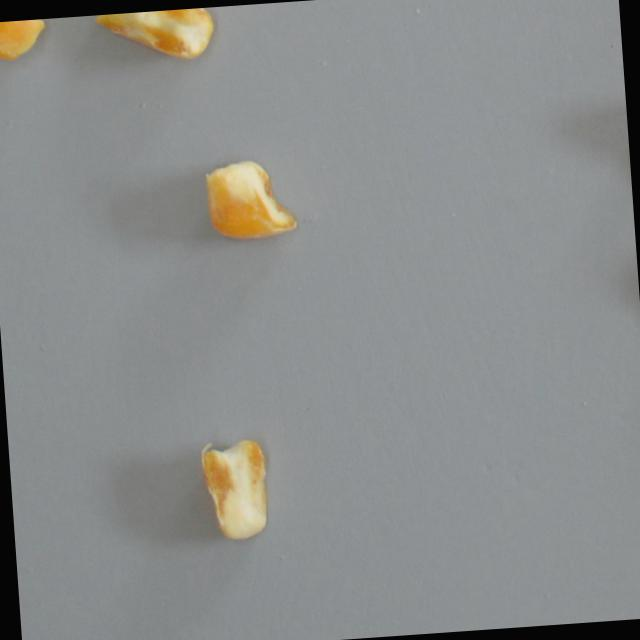pelicula: (191, 425, 285, 553), (202, 153, 299, 244), (93, 7, 217, 65), (0, 18, 49, 63)
